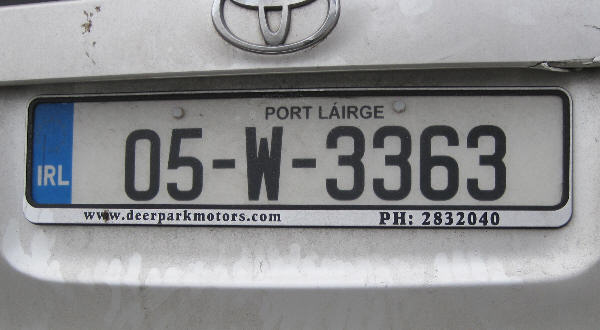license_plate: (26, 86, 569, 210)
